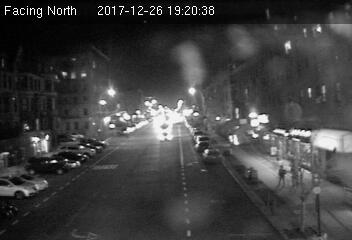car: (201, 148, 222, 163), (157, 132, 173, 141)
